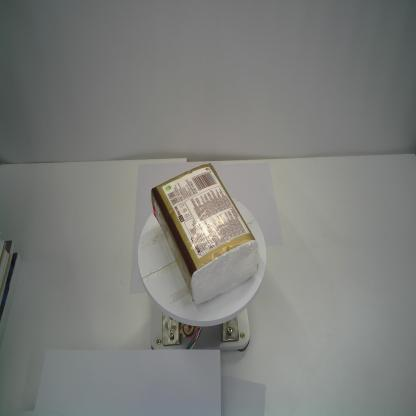Tissue: (150, 162, 260, 306)
